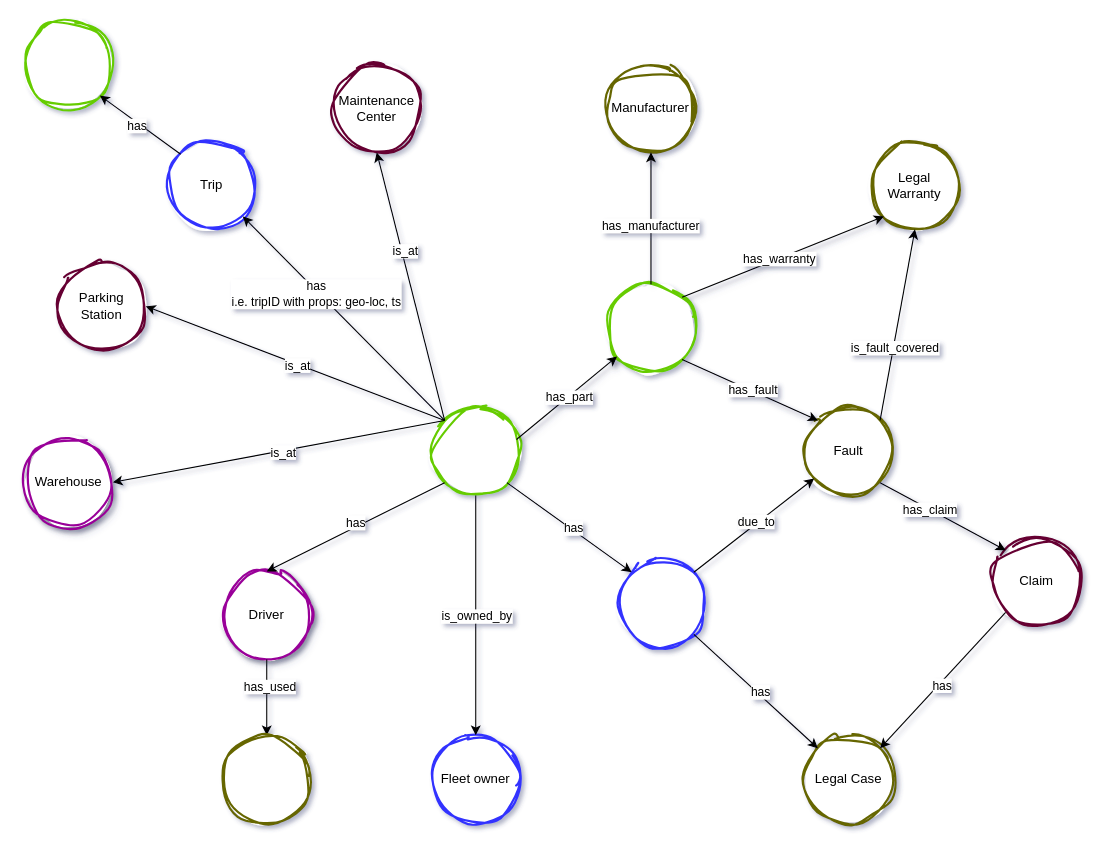
Some shapes in this 1107 by 849 pixel diagram are drawn without their labels. Each missing label, with the centre of its shape:
"Incident" belongs at point 662,603.
"Part or Component" belongs at point 650,328.
"Payment Method" belongs at point 266,779.
"Scooter" belongs at point 475,451.
"Weather" belongs at point 68,64.
